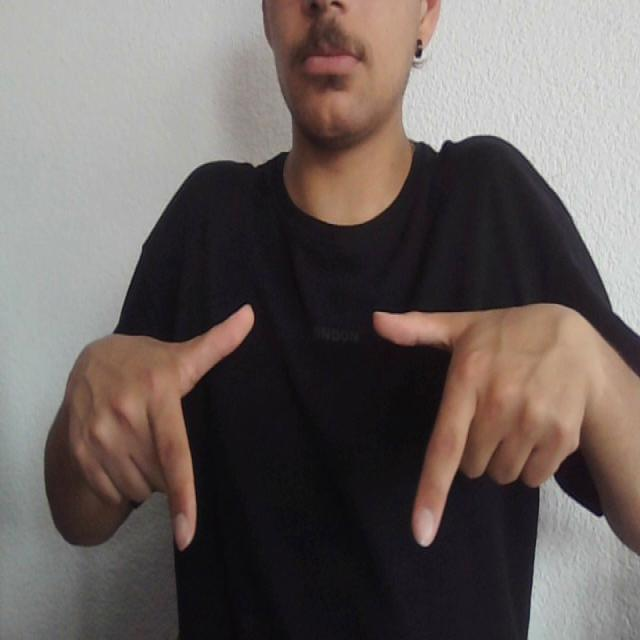Nerede: (144, 293, 490, 562)
